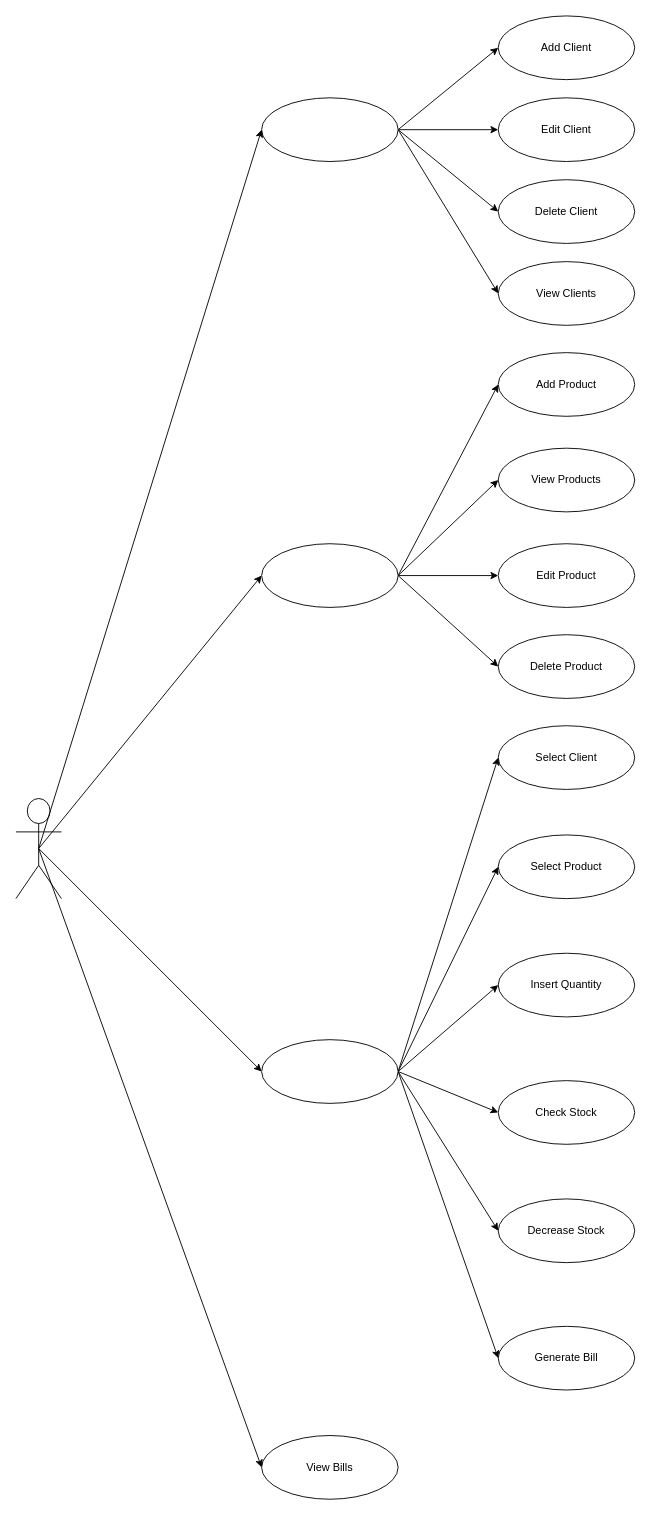
Image size: 651x1515. Some labels were removed from this diagram. Here are the shapes that lost their labels. From the top down, the centre of each, then its label:
At [329,129]: "Manage Clients".
At [329,575]: "Manage Product".
At [38,848]: "User".
At [329,1071]: "Create Order".
